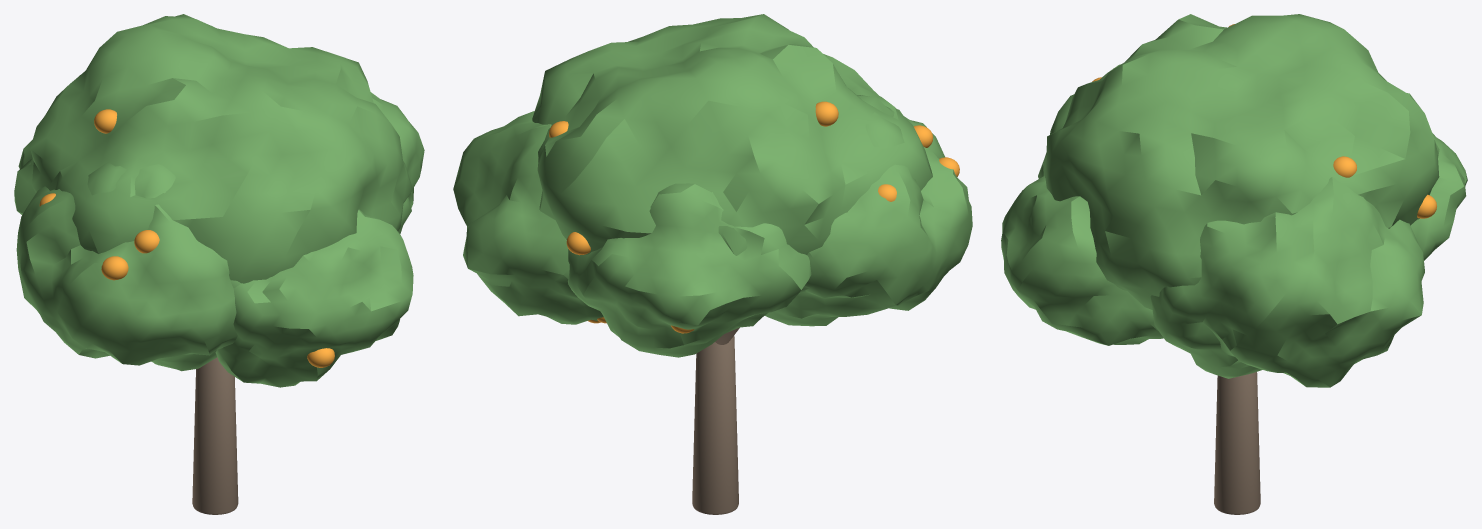
The model's file is kaki_tree.glb.
The picture shows the model from 3 angles, left to right: view 1: azimuth 30°, elevation 25°; view 2: azimuth 150°, elevation 25°; view 3: azimuth 270°, elevation 25°; orthographic projection. The views are drawn at different scales.
Parts seen in each view (by area): view 1: kaki_tree; view 2: kaki_tree; view 3: kaki_tree.
Part boxes in pixels (x1,y1,x2,y2): kaki_tree: (14, 14, 424, 514); kaki_tree: (453, 14, 972, 514); kaki_tree: (1001, 14, 1467, 514).
Size of the model in its own units: 3.81 by 3.98 by 3.58.
